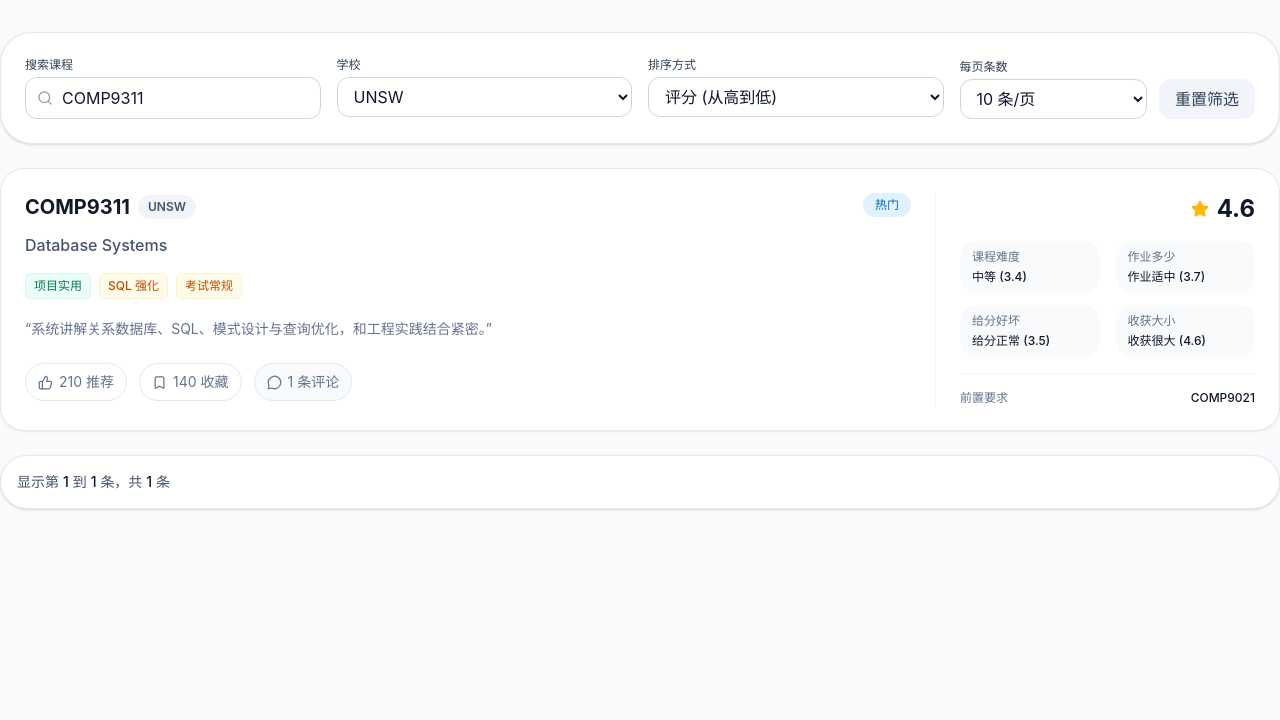
Scenario: task4 pages › renders migrated courses page controls and resets to defaults
Expected: the heading "Database Systems" is shown, [25,235,167,255]
Expected: the text "Principles of Programming" is not shown
Click the button "重置筛选".
click(1207, 99)  # box [1159,79,1255,119]
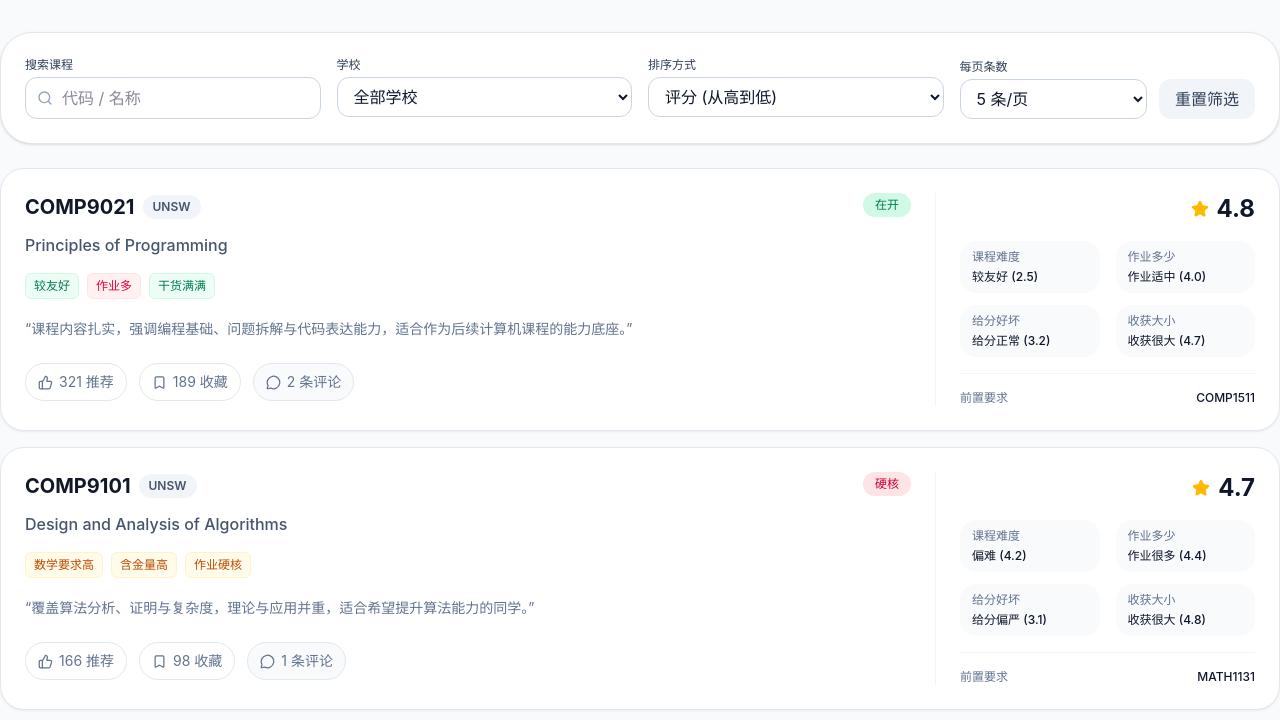
Expected: the field labelled "搜索课程" is empty, [25,77,320,119]
Expected: the dropdown labelled "学校" shows "全部学校", [336,77,632,117]
Expected: the heading "Principles of Programming" is shown, [25,233,228,257]
